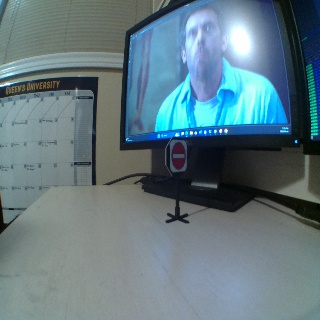sign_noentry: (169, 139, 186, 171)
